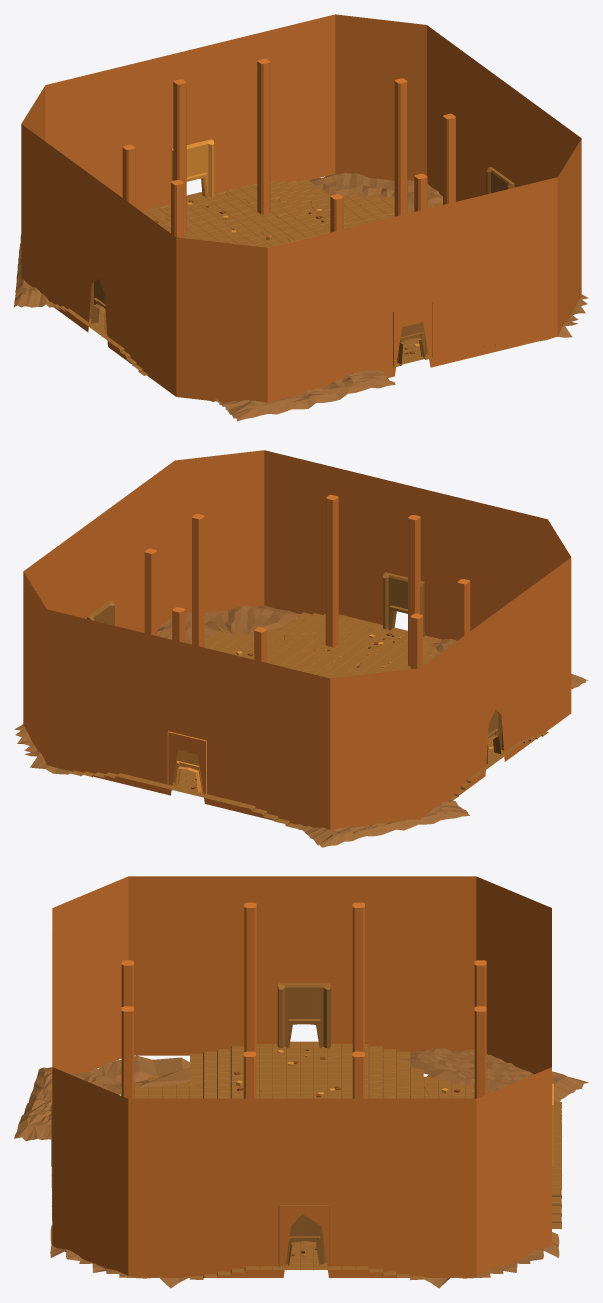
File: EgyptianLevelBase.FBX
3 views of the same model, one above another, from view 1: azimuth 30°, elevation 25°; view 2: azimuth 150°, elevation 25°; view 3: azimuth 270°, elevation 25° (orthographic). The views are drawn at different scales.
Parts seen in each view (by area): view 1: Plane005, Plane006, Plane008, Box038, Plane010, Box015, Box037, doorway002, Box032, Plane007, doorway004, Box034 (+2 smaller); view 2: Plane005, Plane006, Plane011, Plane007, Box035, Box032, Box036, doorway004, Box015, doorway002, Box616, Box034 (+2 smaller); view 3: Plane005, Plane006, Plane008, Plane007, doorway005, Box616, Box034, doorway003, Box035, Box038, Plane010, Plane011 (+4 smaller).
Part boxes in pixels (box(x1,y1,x2,y2)): Plane005: box(21, 14, 581, 402); Plane006: box(47, 179, 515, 375); Plane008: box(206, 370, 395, 421); Box038: box(257, 58, 270, 214); Plane010: box(309, 172, 442, 209); Box015: box(394, 78, 407, 216); Box037: box(173, 79, 186, 233); doorway002: box(171, 139, 214, 198); Box032: box(443, 113, 455, 204); Plane007: box(14, 234, 54, 307); doorway004: box(393, 302, 432, 367); Box034: box(122, 144, 135, 207); Plane005: box(23, 450, 571, 829); Plane006: box(70, 612, 548, 828); Plane011: box(157, 605, 299, 644); Plane007: box(293, 800, 469, 847); Box035: box(325, 495, 338, 647); Box032: box(192, 514, 204, 647); Box036: box(408, 515, 420, 666); doorway004: box(383, 572, 424, 636); Box015: box(144, 548, 157, 635); doorway002: box(167, 731, 206, 794); Box616: box(457, 579, 470, 639); Box034: box(410, 613, 422, 668); Plane005: box(52, 876, 551, 1277); Plane006: box(51, 1041, 561, 1279); Plane008: box(14, 1055, 191, 1141); Plane007: box(402, 1048, 588, 1104); doorway005: box(277, 982, 330, 1048); Box616: box(244, 902, 256, 1076); Box034: box(352, 902, 364, 1052); doorway003: box(278, 1205, 329, 1266); Box035: box(121, 1006, 133, 1098); Box038: box(474, 1006, 486, 1098); Plane010: box(423, 1232, 559, 1288); Plane011: box(50, 1225, 189, 1288).
Bounding box in the file's own units: 5646 × 2014 × 5611.
